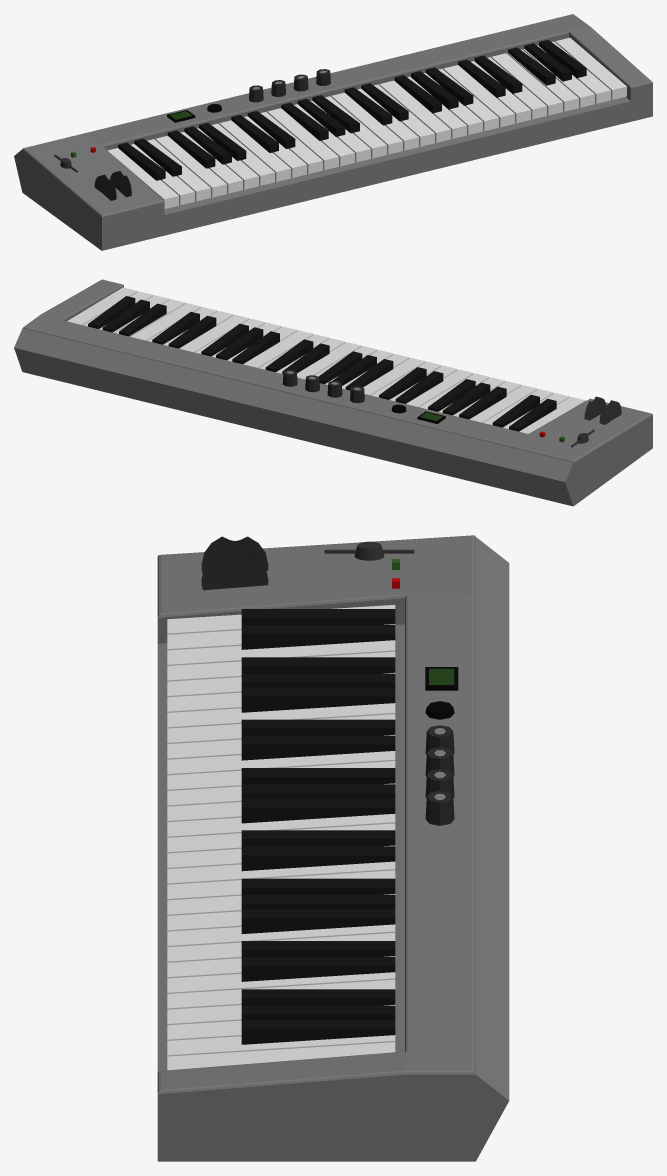
The model's file is Midi Keyboard08.fbx.
3 renders of one model, top to bottom at view 1: azimuth 30°, elevation 25°; view 2: azimuth 150°, elevation 25°; view 3: azimuth 270°, elevation 25°, orthographic. The views are drawn at different scales.
Visible parts, largest first — view 1: 49keysmidi.009; view 2: 49keysmidi.009; view 3: 49keysmidi.009.
Boxes of the visible parts, <box> form: 49keysmidi.009: <box>14,14,652,250</box>; 49keysmidi.009: <box>14,279,652,506</box>; 49keysmidi.009: <box>157,535,509,1161</box>.
Bounding box in the file's own units: 80 × 7.78 × 22.11.
